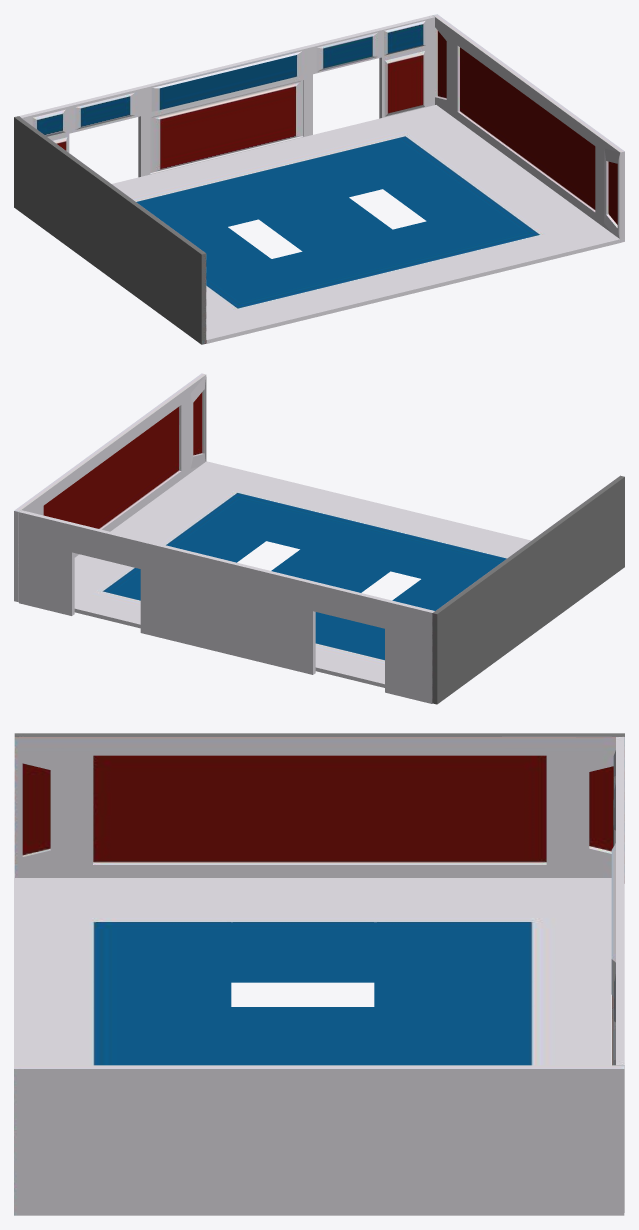
File: BURACO.fbx
The picture shows the model from 3 angles, top to bottom: view 1: azimuth 30°, elevation 25°; view 2: azimuth 150°, elevation 25°; view 3: azimuth 270°, elevation 25°; orthographic projection. The views are drawn at different scales.
Visible parts, largest first — view 1: PAREDE_TRAS1; view 2: PAREDE_TRAS1; view 3: PAREDE_TRAS1.
Part boxes in pixels (box(x1,y1,x2,y2)): PAREDE_TRAS1: box(14, 14, 624, 344); PAREDE_TRAS1: box(14, 373, 624, 704); PAREDE_TRAS1: box(14, 733, 624, 1215).
Size of what is drawn, in the model's own units: 34.09 by 7.01 by 26.22.
1 material, 1 textured.
